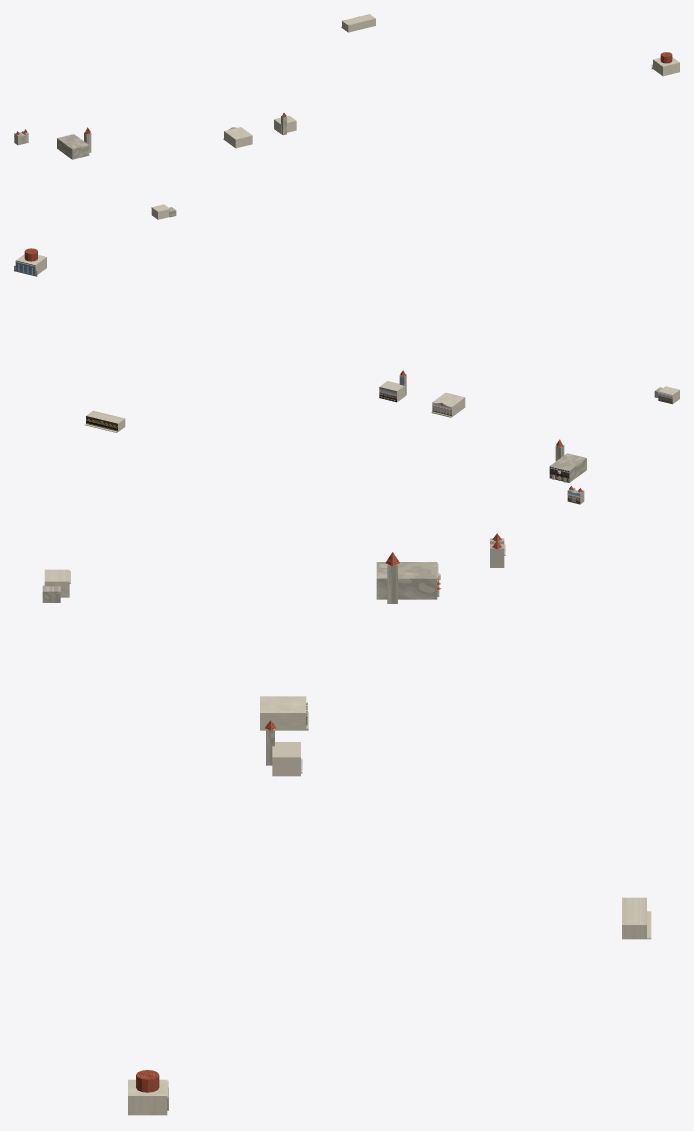
File: landmarks-hd.glb
The picture shows the model from 3 angles, top to bottom: view 1: azimuth 30°, elevation 25°; view 2: azimuth 150°, elevation 25°; view 3: azimuth 270°, elevation 25°; orthographic projection. The views are drawn at different scales.
Parts seen in each view (by area): view 1: landmark-hd-duomo, landmark-hd-granmadre, landmark-hd-teatro, landmark-hd-stazione, landmark-hd-comunale; view 2: landmark-hd-duomo, landmark-hd-granmadre, landmark-hd-teatro, landmark-hd-stazione, landmark-hd-comunale; view 3: landmark-hd-duomo, landmark-hd-granmadre, landmark-hd-teatro, landmark-hd-comunale, landmark-hd-stazione, landmark-hd-sanpietro.
Part boxes in pixels (x1,y1,x2,y2): landmark-hd-duomo: [57, 127, 91, 159]; landmark-hd-granmadre: [651, 52, 679, 76]; landmark-hd-teatro: [223, 127, 252, 148]; landmark-hd-stazione: [341, 14, 375, 32]; landmark-hd-comunale: [274, 113, 296, 135]; landmark-hd-duomo: [549, 439, 586, 482]; landmark-hd-granmadre: [14, 248, 46, 276]; landmark-hd-teatro: [431, 392, 465, 417]; landmark-hd-stazione: [85, 410, 125, 432]; landmark-hd-comunale: [379, 370, 406, 402]; landmark-hd-duomo: [376, 552, 440, 603]; landmark-hd-granmadre: [128, 1070, 168, 1115]; landmark-hd-teatro: [260, 696, 308, 730]; landmark-hd-comunale: [265, 720, 302, 776]; landmark-hd-stazione: [622, 897, 651, 939]; landmark-hd-sanpietro: [42, 569, 70, 602].
Size of the model in its own units: 742 by 30.9 by 340.
Materials: 19 (19 with a texture image).
